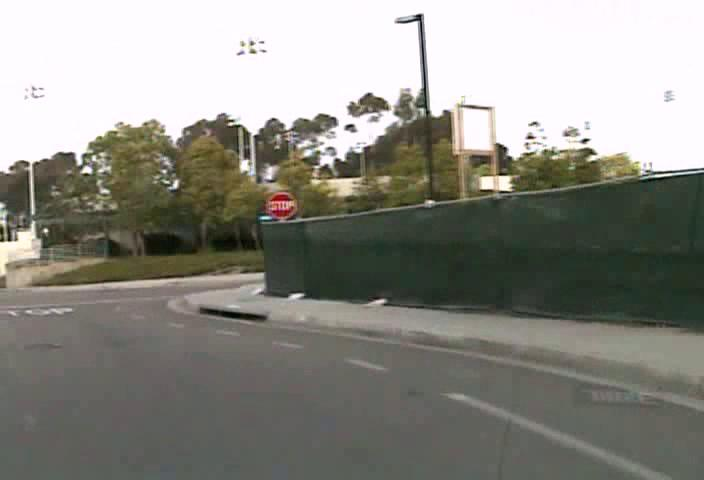stop: (266, 191, 297, 220)
